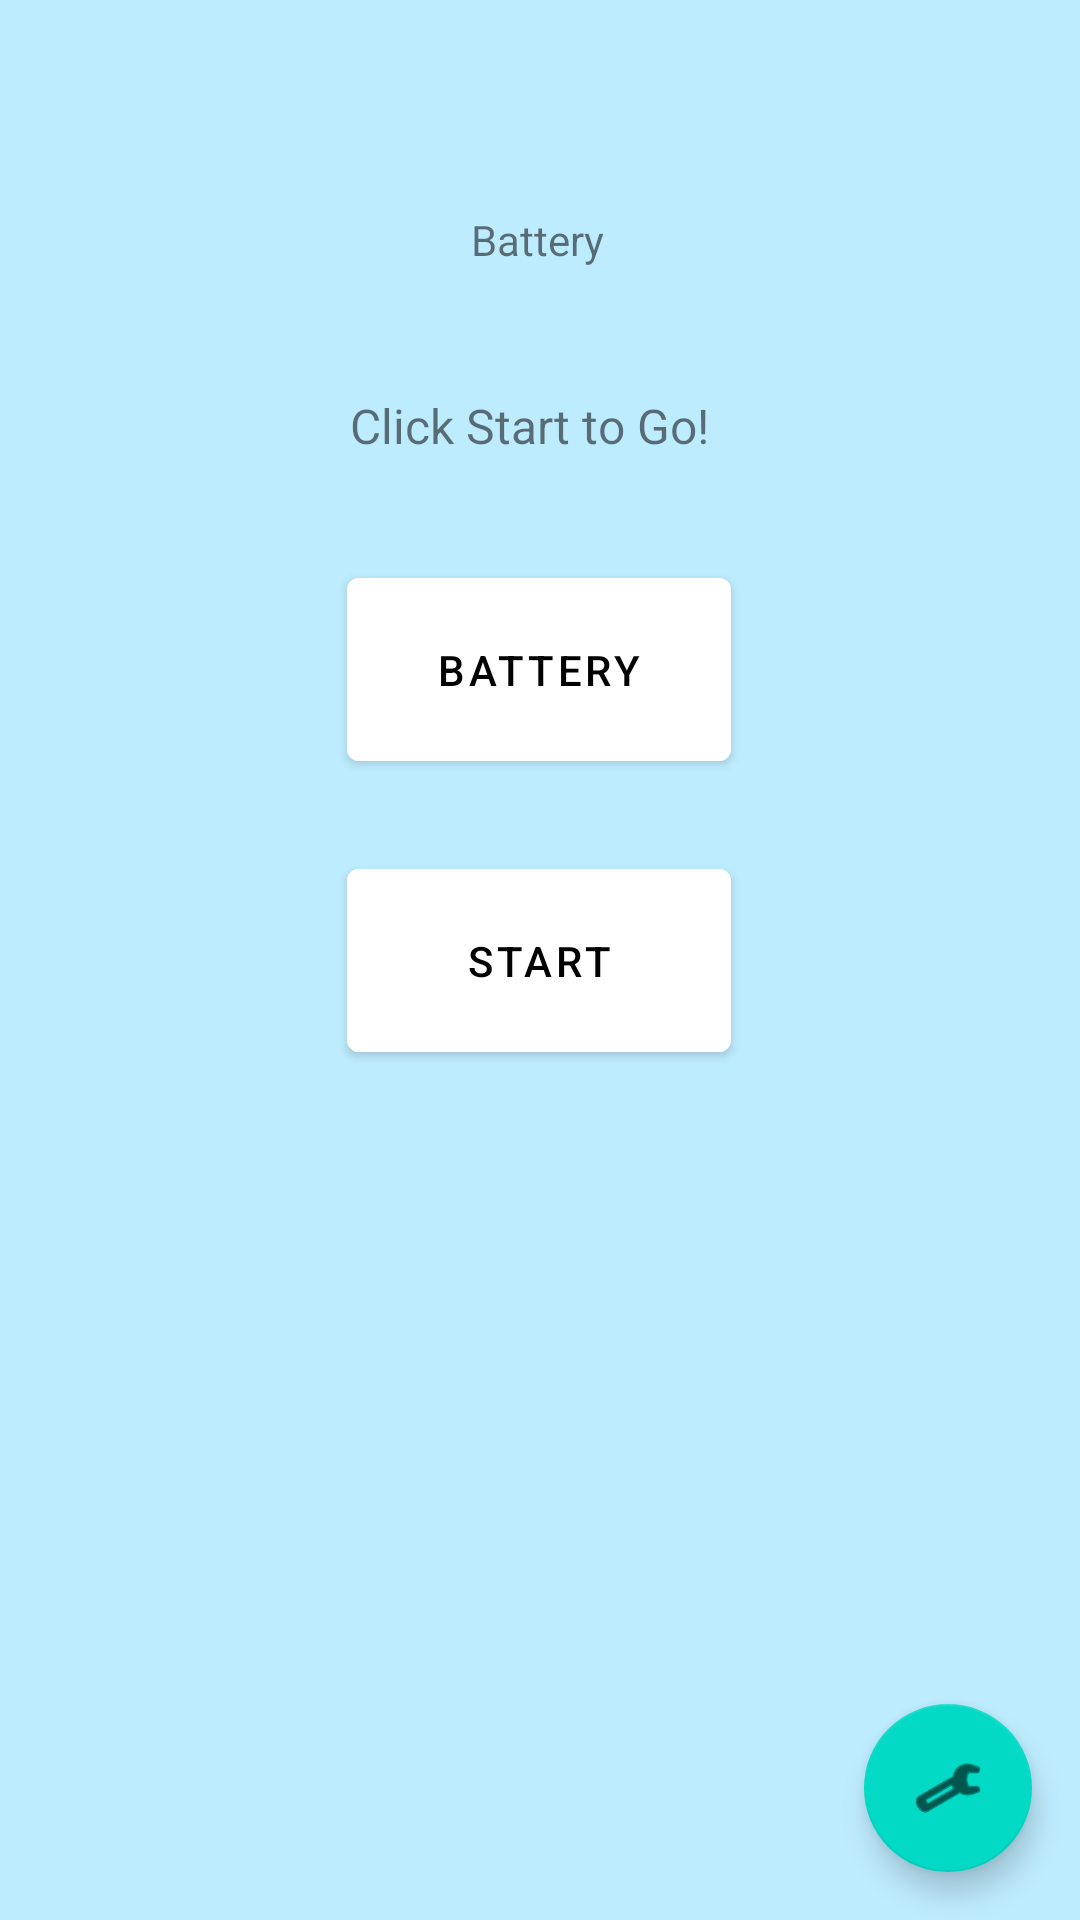

Named icons in this screenshot (1080 x 1920) and their centers, [x,y]:
manage: [948,1788]
